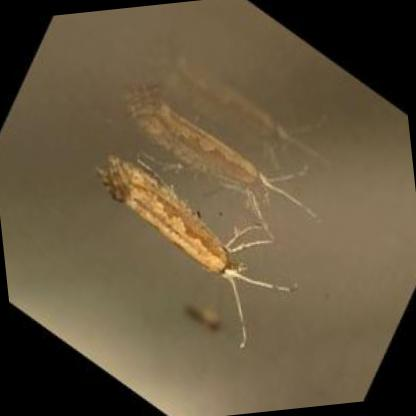plutella: (94, 147, 300, 354), (108, 87, 323, 222)
